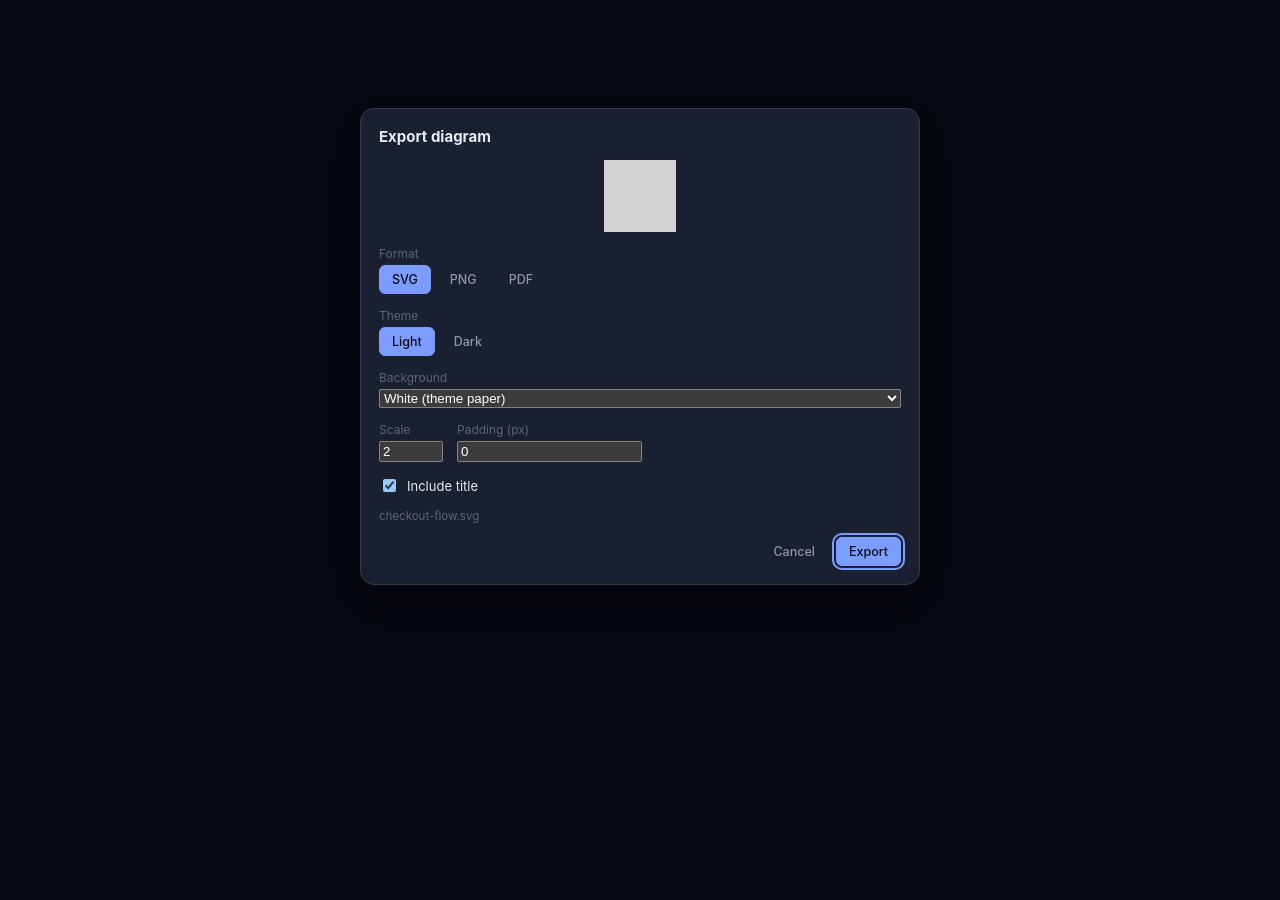
Scenario: ExportDialog › tracks the file name as the format changes
Click the button with test id "export-format-pdf". click: [521, 280]
box: [496,265,546,294]
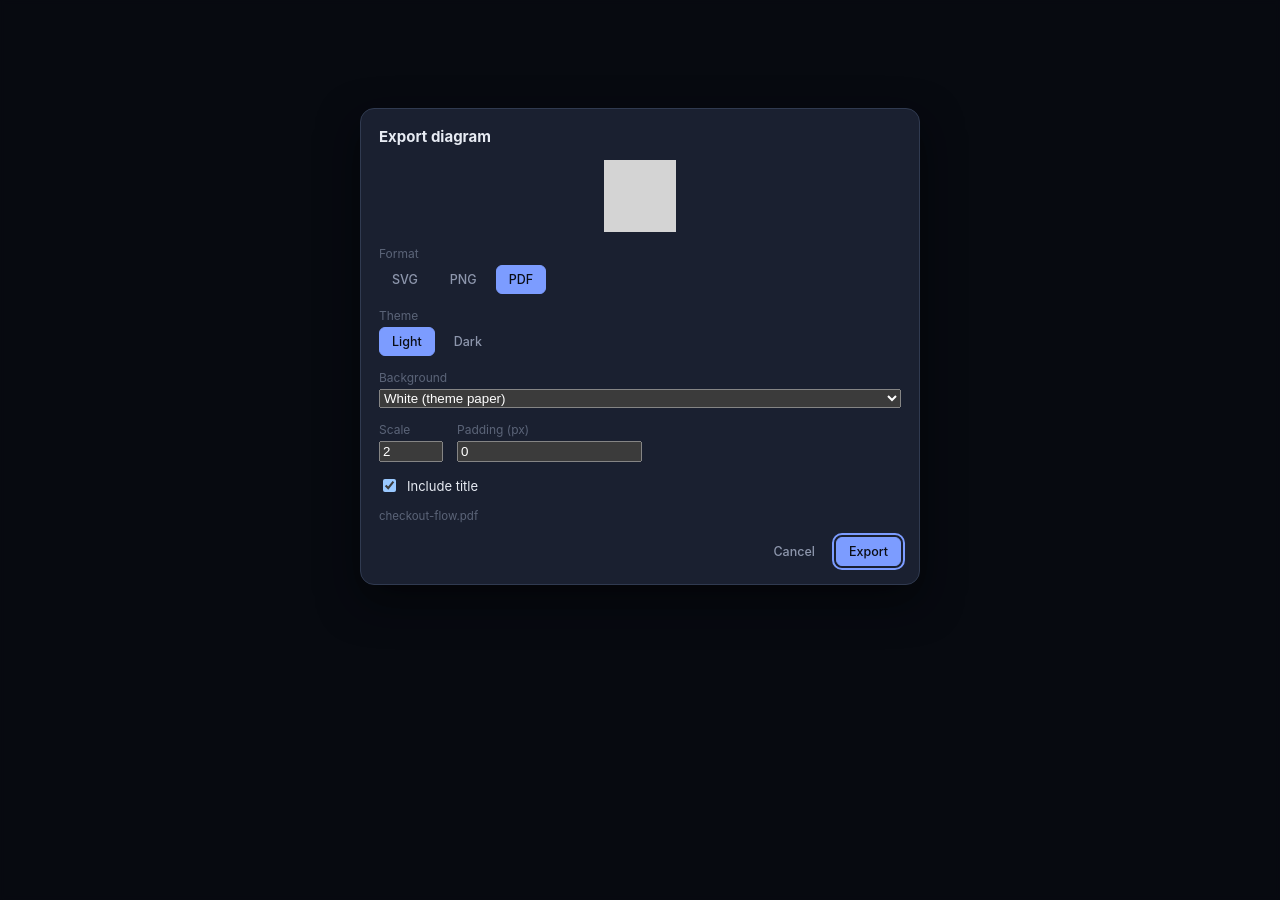
Expected: the text with test id "export-file-name" reads "checkout-flow.pdf", [379,509,478,523]
